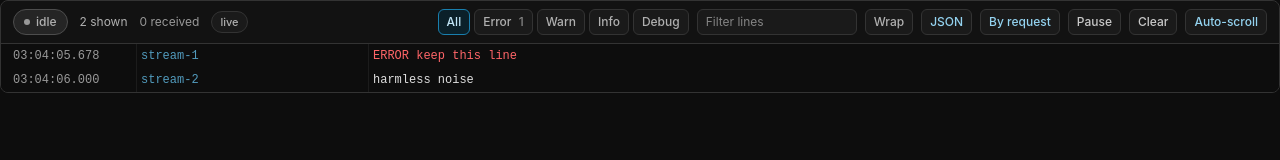
Test: LogViewer controlled level filter › keeps owning the filter when no level prop is passed
Expected: the number of list items with test id "log-line" is 2, [13,49,517,63]; [13,73,474,87]
What coordinates should you click on to do the following:
click the button with test id "level-error"
I would click on:
 (503, 22)
Its box is [474,9,533,35].
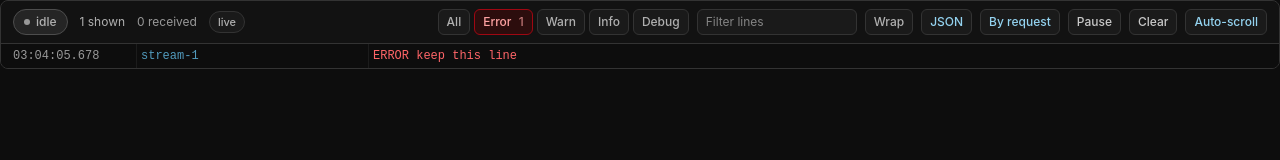
Expected: the number of list items with test id "log-line" is 1, [13,49,517,63]
